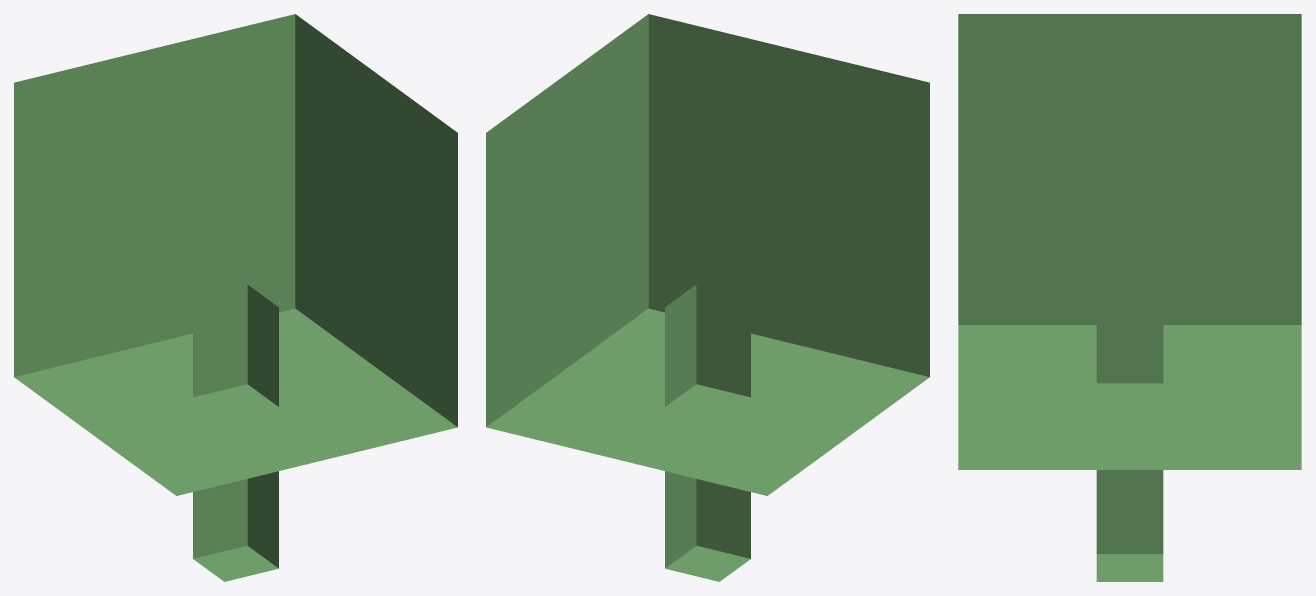
The model's file is veg-tree-a.glb.
3 views of the same model, side by side, from view 1: azimuth 30°, elevation 25°; view 2: azimuth 150°, elevation 25°; view 3: azimuth 270°, elevation 25° (orthographic). The views are drawn at different scales.
Size of the model in its own units: 1.24 by 1.92 by 1.24.
